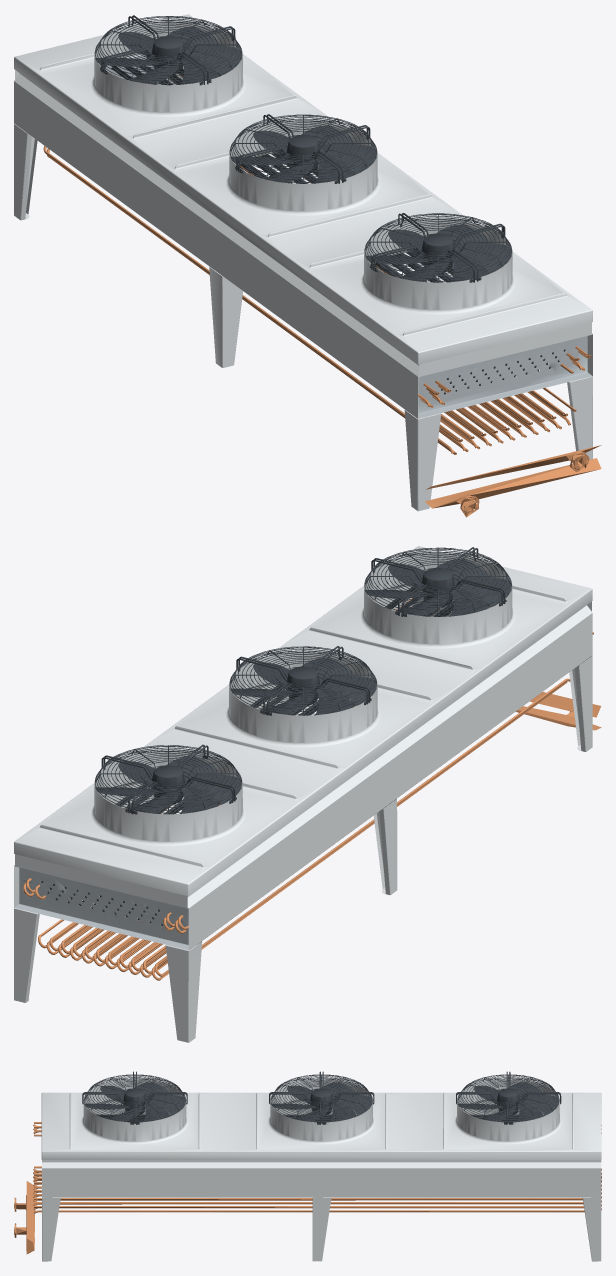
The model's file is cooling-tower-small.glb.
3 renders of one model, top to bottom at view 1: azimuth 30°, elevation 25°; view 2: azimuth 150°, elevation 25°; view 3: azimuth 270°, elevation 25°, orthographic. The views are drawn at different scales.
Parts seen in each view (by area): view 1: Корпус, Chiler fan, Боковины, Трубки.001, Коллекторы.001, Cylinder.005; view 2: Корпус, Chiler fan, Боковины, Трубки.001, Cylinder.005, Коллекторы.001; view 3: Корпус, Chiler fan, Трубки.001, Коллекторы.001, Cylinder.005.
Boxes of the visible parts, x1,y1,x2,y2 form: Корпус: (14, 14, 592, 511); Chiler fan: (94, 15, 511, 282); Боковины: (105, 54, 592, 418); Трубки.001: (43, 146, 576, 454); Коллекторы.001: (425, 445, 601, 517); Cylinder.005: (105, 56, 565, 394); Корпус: (14, 546, 592, 1042); Chiler fan: (95, 547, 511, 814); Боковины: (14, 590, 490, 950); Трубки.001: (38, 678, 570, 980); Cylinder.005: (41, 587, 489, 925); Коллекторы.001: (515, 692, 601, 730); Корпус: (41, 1079, 601, 1261); Chiler fan: (82, 1071, 561, 1124); Трубки.001: (33, 1166, 601, 1213); Коллекторы.001: (14, 1181, 35, 1254); Cylinder.005: (96, 1114, 544, 1122).
Bounding box in the file's own units: 0.7499 × 0.8239 × 3.15.
